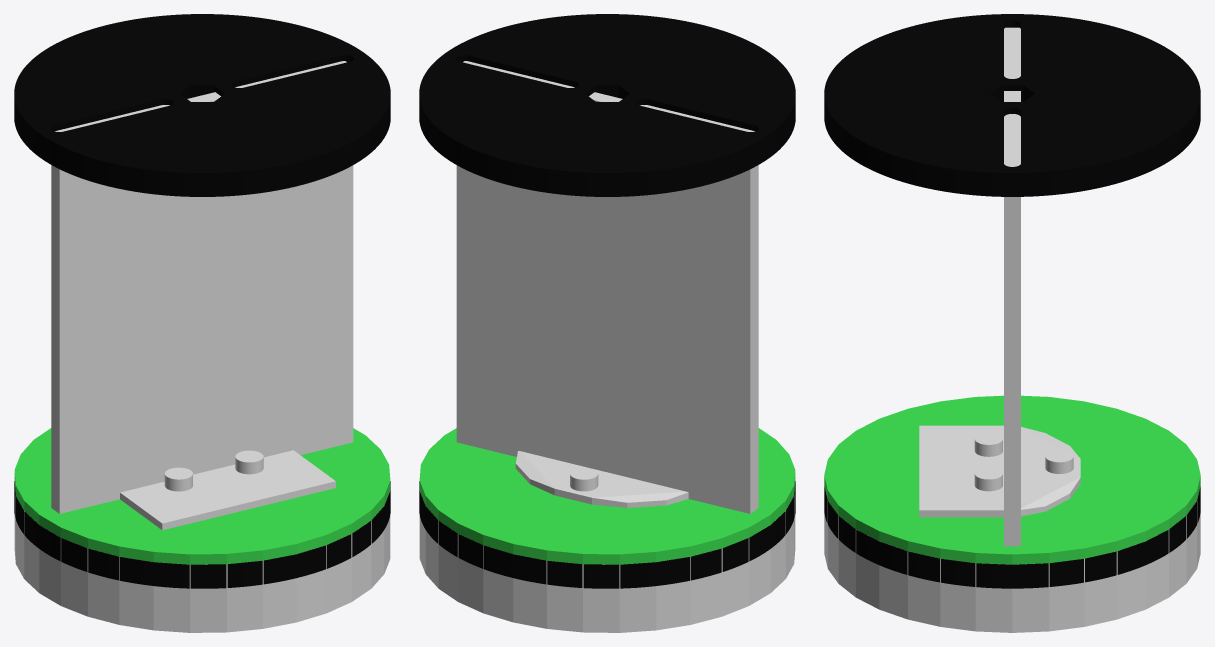
Rendered from Maryland_Retention_Rig.glb.
3 views of the same model, side by side, from view 1: azimuth 30°, elevation 25°; view 2: azimuth 150°, elevation 25°; view 3: azimuth 270°, elevation 25° (orthographic).
Visible parts, largest first — view 1: Hooks, Original_TopPlate, Guide_2mm, Base-trim, Original_BasePlate, Filler-transform, L_Top, R_Top; view 2: Hooks, Original_TopPlate, Guide_2mm, Base-trim, Original_BasePlate, Filler-transform, Ant_Top; view 3: Original_TopPlate, Guide_2mm, Base-trim, Filler-transform, Original_BasePlate, Hooks, R_Top, Ant_Top, L_Top.
Boxes of the visible parts, x1=… form: Hooks: x1=51, y1=61, x2=353, y2=513; Original_TopPlate: x1=14, y1=14, x2=390, y2=196; Guide_2mm: x1=14, y1=428, x2=390, y2=564; Base-trim: x1=14, y1=496, x2=390, y2=632; Original_BasePlate: x1=14, y1=481, x2=390, y2=588; Filler-transform: x1=120, y1=450, x2=335, y2=530; L_Top: x1=164, y1=467, x2=192, y2=491; R_Top: x1=235, y1=450, x2=263, y2=474; Hooks: x1=456, y1=61, x2=758, y2=513; Original_TopPlate: x1=419, y1=14, x2=795, y2=196; Guide_2mm: x1=419, y1=428, x2=795, y2=564; Base-trim: x1=419, y1=496, x2=795, y2=632; Original_BasePlate: x1=419, y1=481, x2=795, y2=588; Filler-transform: x1=515, y1=451, x2=688, y2=507; Ant_Top: x1=570, y1=467, x2=598, y2=491; Original_TopPlate: x1=824, y1=14, x2=1200, y2=196; Guide_2mm: x1=824, y1=395, x2=1200, y2=564; Base-trim: x1=824, y1=501, x2=1200, y2=632; Filler-transform: x1=919, y1=425, x2=1080, y2=517; Original_BasePlate: x1=824, y1=486, x2=1200, y2=588; Hooks: x1=1004, y1=27, x2=1020, y2=546; R_Top: x1=974, y1=467, x2=1002, y2=491; Ant_Top: x1=1045, y1=450, x2=1073, y2=473; L_Top: x1=974, y1=433, x2=1002, y2=456.
Bounding box in the file's own units: 100 × 135 × 100.
